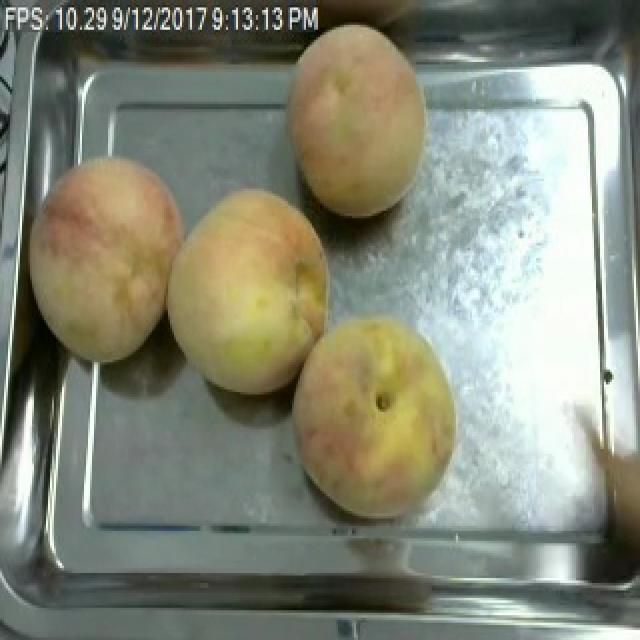Fruit: (158, 178, 344, 400), (16, 144, 196, 372), (284, 305, 468, 526), (276, 15, 436, 226)
